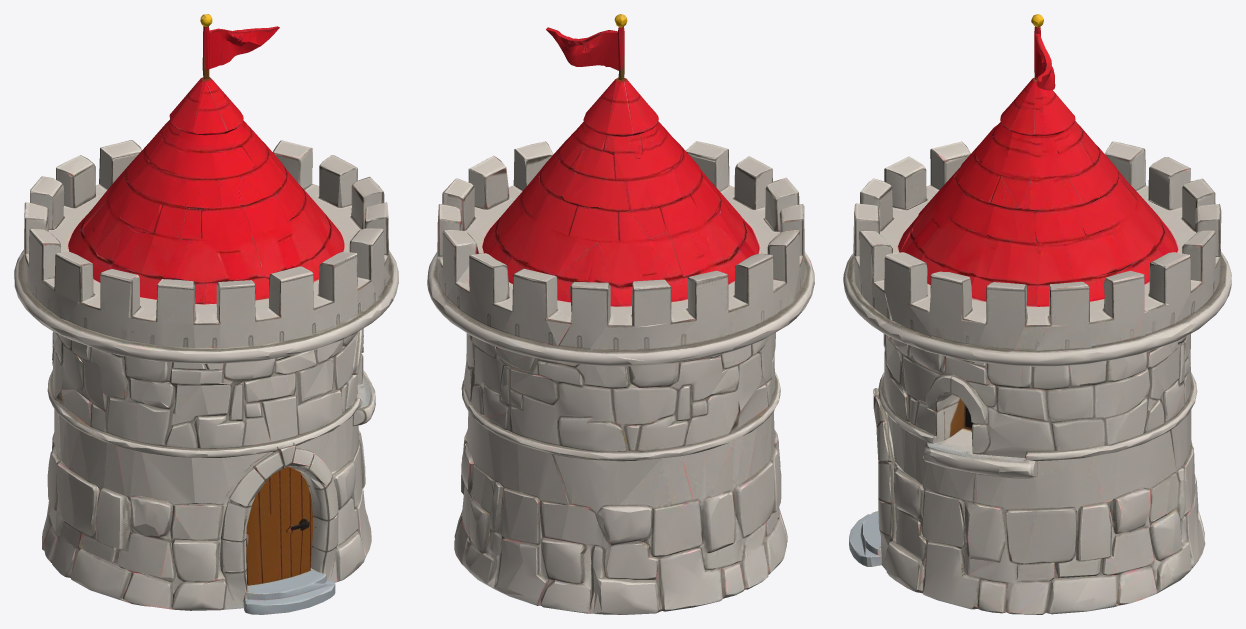
File: tower.glb
3 renders of one model, left to right at view 1: azimuth 30°, elevation 25°; view 2: azimuth 150°, elevation 25°; view 3: azimuth 270°, elevation 25°, orthographic.
Size of the model in its own units: 1.26 by 1.9 by 1.26.
1 material, 1 textured.
